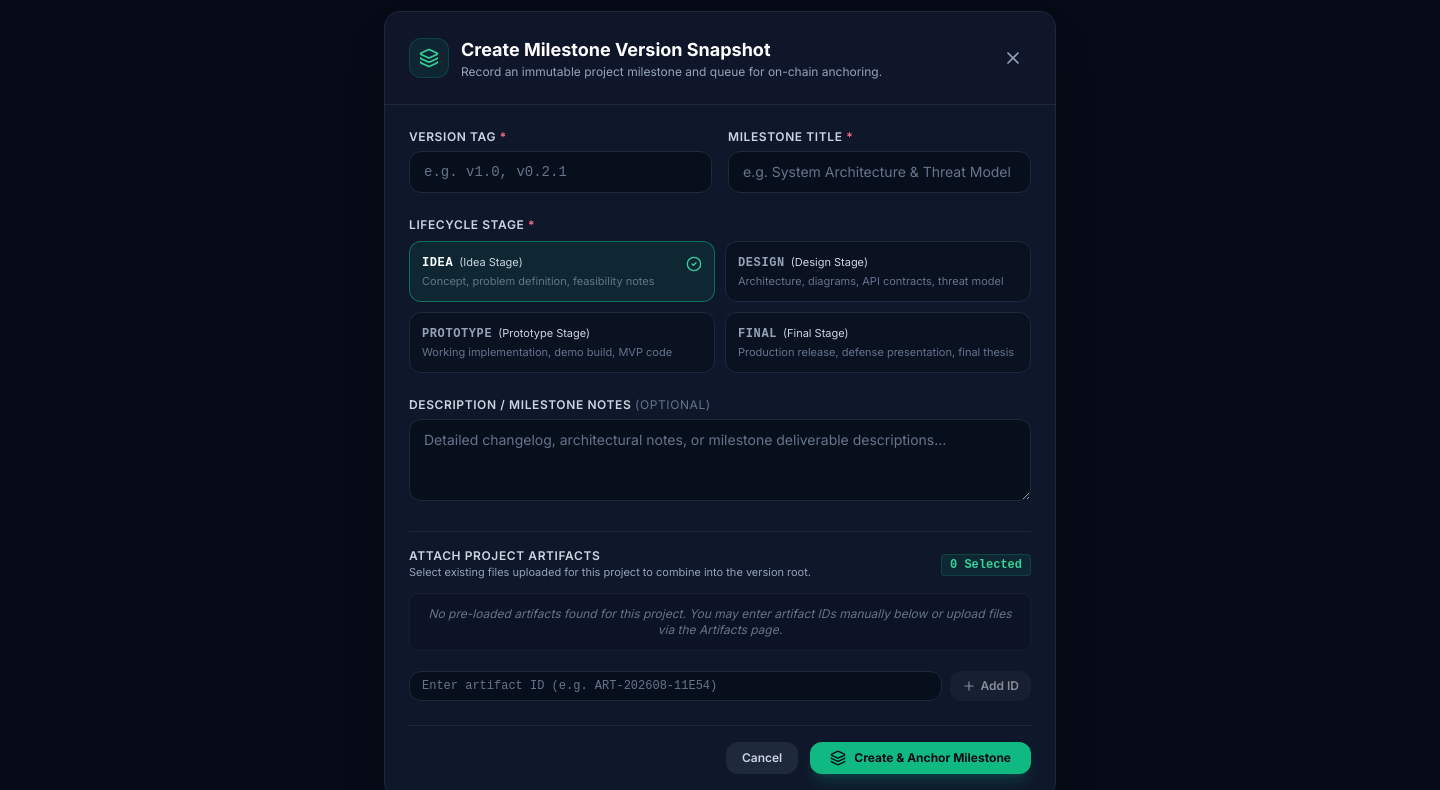
Test: Project Versions & Milestones Frontend Module Tests › CreateVersionModal — Creation Workflow & Validation › displays error banner when version creation API fails
Type "v1.0" into the field labelled "Version Tag *" at (560, 172), box [409, 151, 712, 193]
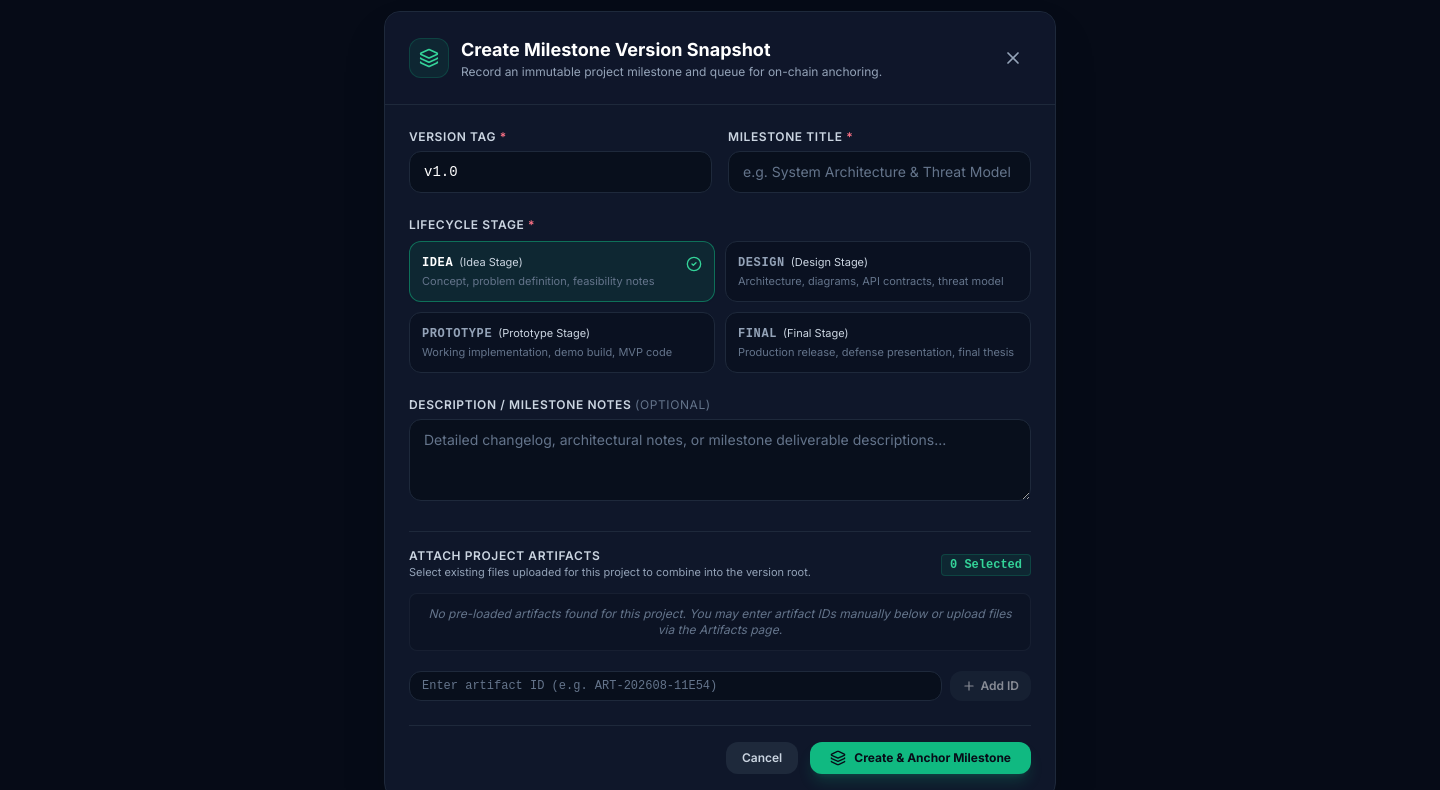
Type "Duplicate Tag" into the field labelled "Milestone Title *" at (880, 172), box [728, 151, 1031, 193]
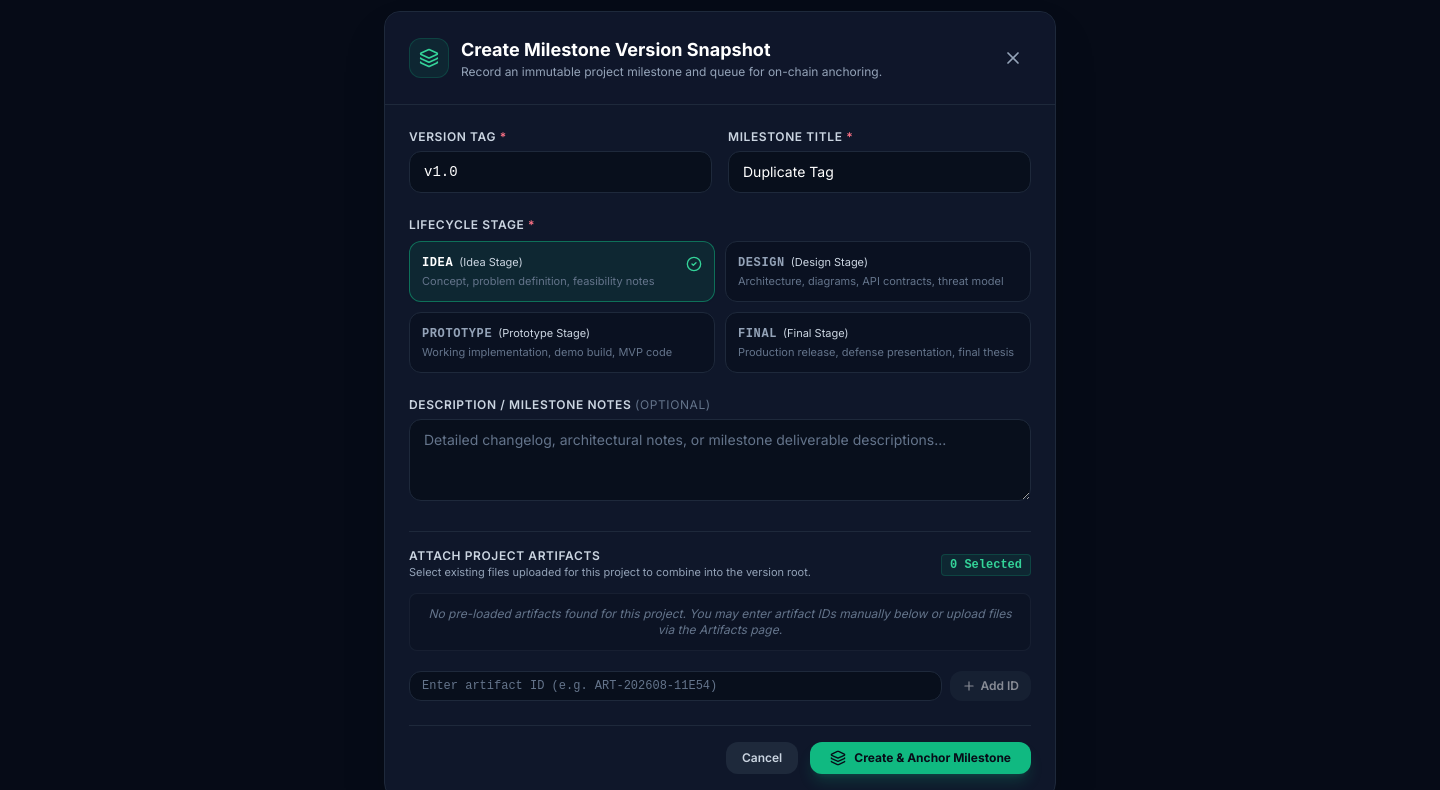
Click the button "Create & Anchor Milestone" at (921, 758), box [810, 742, 1031, 774]
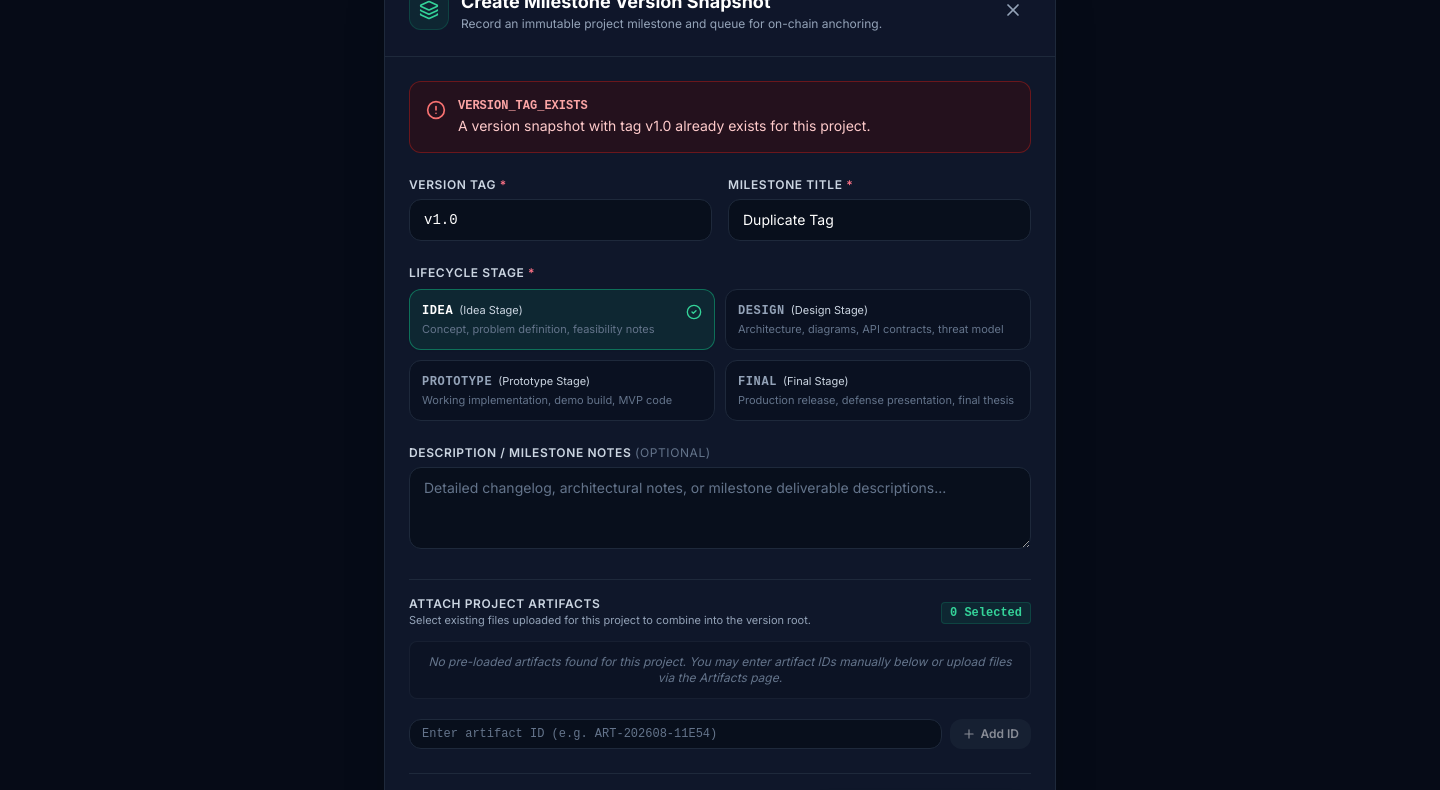
Expected: the text "A version snapshot with tag v1.0 already exists" is shown, [458, 117, 870, 134]
